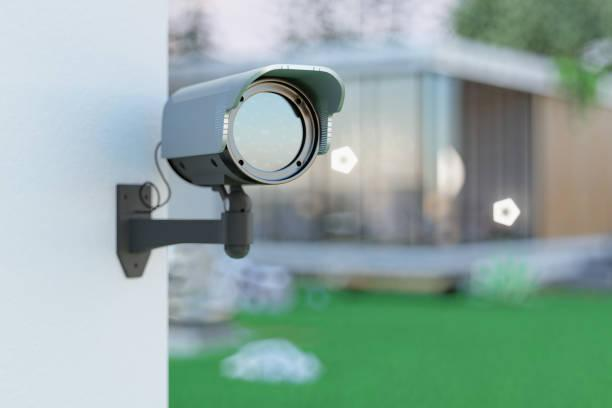camera: (125, 53, 355, 216)
